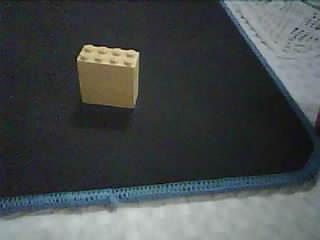lego: (75, 42, 140, 109)
